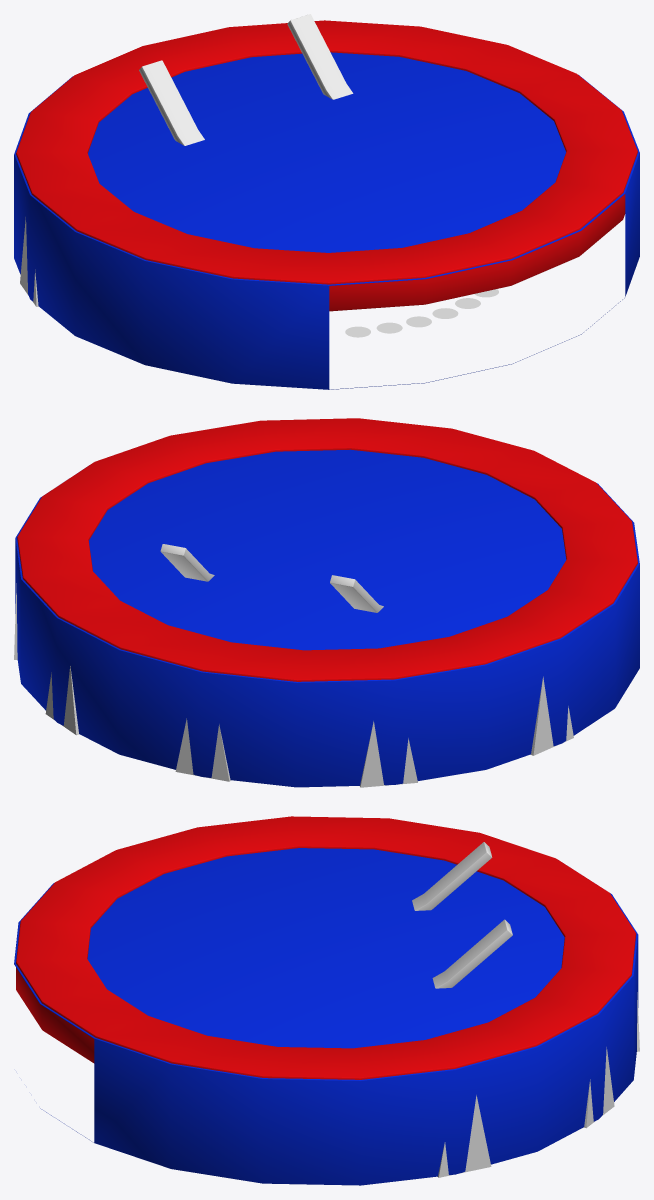
Rendered from RoomGltf.glb.
3 views of the same model, one above another, from view 1: azimuth 30°, elevation 25°; view 2: azimuth 150°, elevation 25°; view 3: azimuth 270°, elevation 25° (orthographic).
Parts seen in each view (by area): view 1: Bg, Techo, pCube5, pCube7; view 2: Bg, Techo, pCube16, pCube15, pCube17, pCube7, pCube5, pCube14; view 3: Bg, Techo, pCube5, pCube7, pCube13, pCube14.
Part boxes in pixels (x1,y1,x2,y2): Bg: [14, 52, 639, 389]; Techo: [16, 20, 637, 311]; pCube5: [287, 14, 353, 99]; pCube7: [139, 60, 204, 145]; Bg: [15, 449, 639, 787]; Techo: [17, 418, 637, 681]; pCube16: [360, 721, 417, 787]; pCube15: [175, 718, 230, 781]; pCube17: [530, 676, 573, 755]; pCube7: [330, 575, 383, 612]; pCube5: [160, 544, 214, 581]; pCube14: [45, 666, 79, 735]; Bg: [14, 848, 638, 1185]; Techo: [16, 816, 636, 1079]; pCube5: [432, 919, 512, 988]; pCube7: [412, 842, 492, 910]; pCube13: [437, 1095, 491, 1177]; pCube14: [583, 1047, 614, 1128].
Size of the model in its own units: 24.68 by 7 by 24.74.
